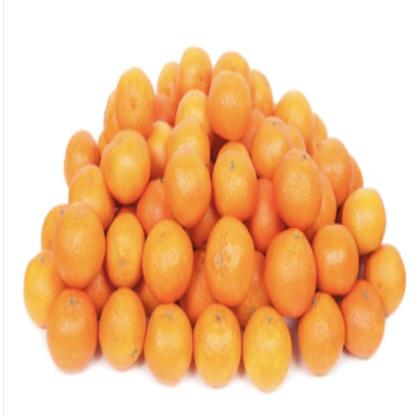fresh: (23, 46, 404, 390)
